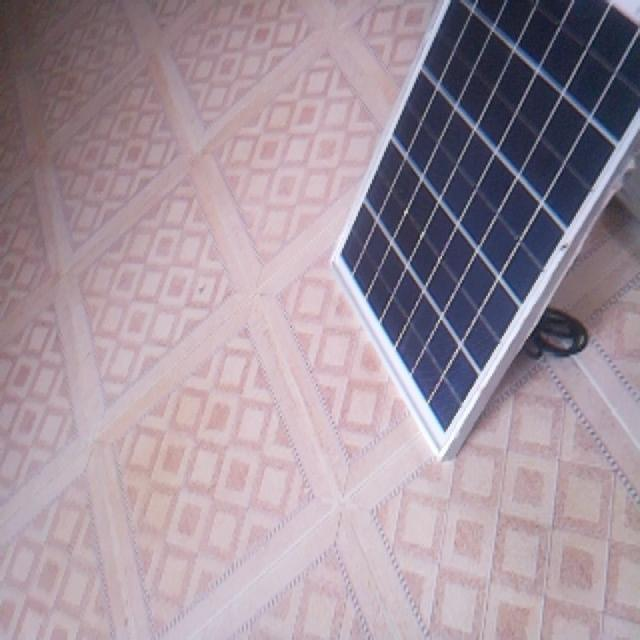Normal Solar Panel: (333, 0, 640, 459)
